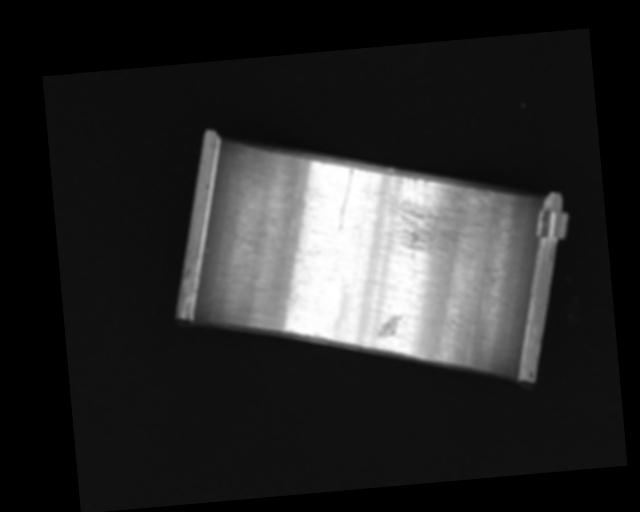bruise: (376, 315, 404, 337)
nick: (202, 231, 255, 323), (332, 167, 358, 230)
scratch: (378, 160, 500, 263)
